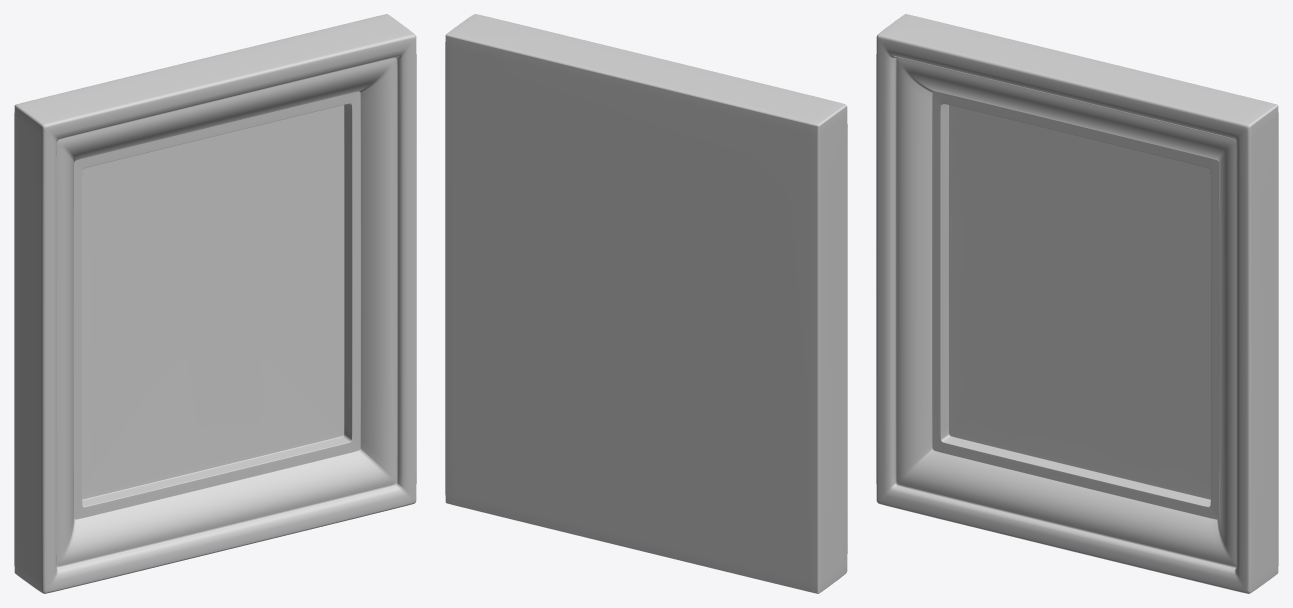
The model's file is Mirror_011(White).gltf.
The picture shows the model from 3 angles, left to right: view 1: azimuth 30°, elevation 25°; view 2: azimuth 150°, elevation 25°; view 3: azimuth 330°, elevation 25°; orthographic projection.
Parts seen in each view (by area): view 1: Mirror_011; view 2: Mirror_011; view 3: Mirror_011.
Boxes of the visible parts, x1,y1,x2,y2 form: Mirror_011: (14, 14, 416, 593); Mirror_011: (445, 14, 847, 593); Mirror_011: (876, 14, 1278, 593).
Bounding box in the file's own units: 0.661 × 0.7926 × 0.092.
Materials: 1 (1 with a texture image).
